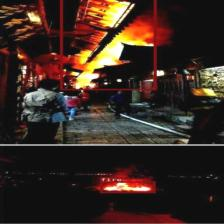fire: (60, 0, 156, 90), (100, 182, 154, 192)
